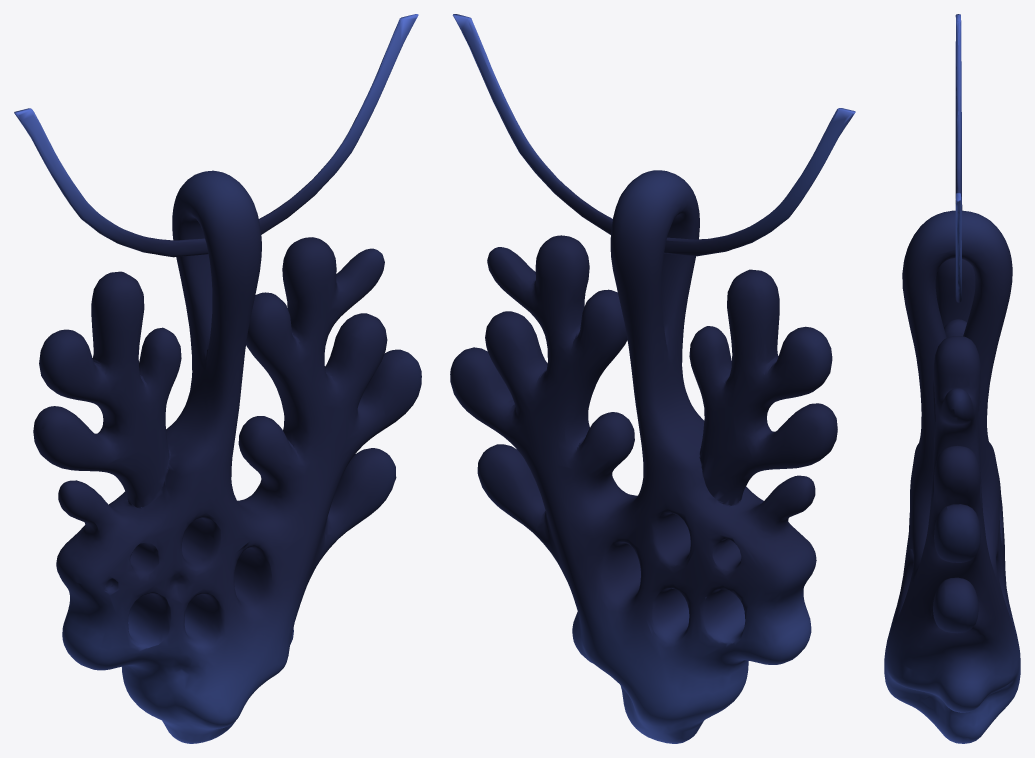
File: colgante_1_ia.glb
3 renders of one model, left to right at view 1: azimuth 30°, elevation 25°; view 2: azimuth 150°, elevation 25°; view 3: azimuth 270°, elevation 25°, orthographic. The views are drawn at different scales.
Parts seen in each view (by area): view 1: model; view 2: model; view 3: model.
Boxes of the visible parts, x1,y1,x2,y2 form: model: (14,14,421,743); model: (450,14,855,743); model: (884,14,1020,743).
Size of the model in its own units: 1.19 by 1.9 by 0.3679.
